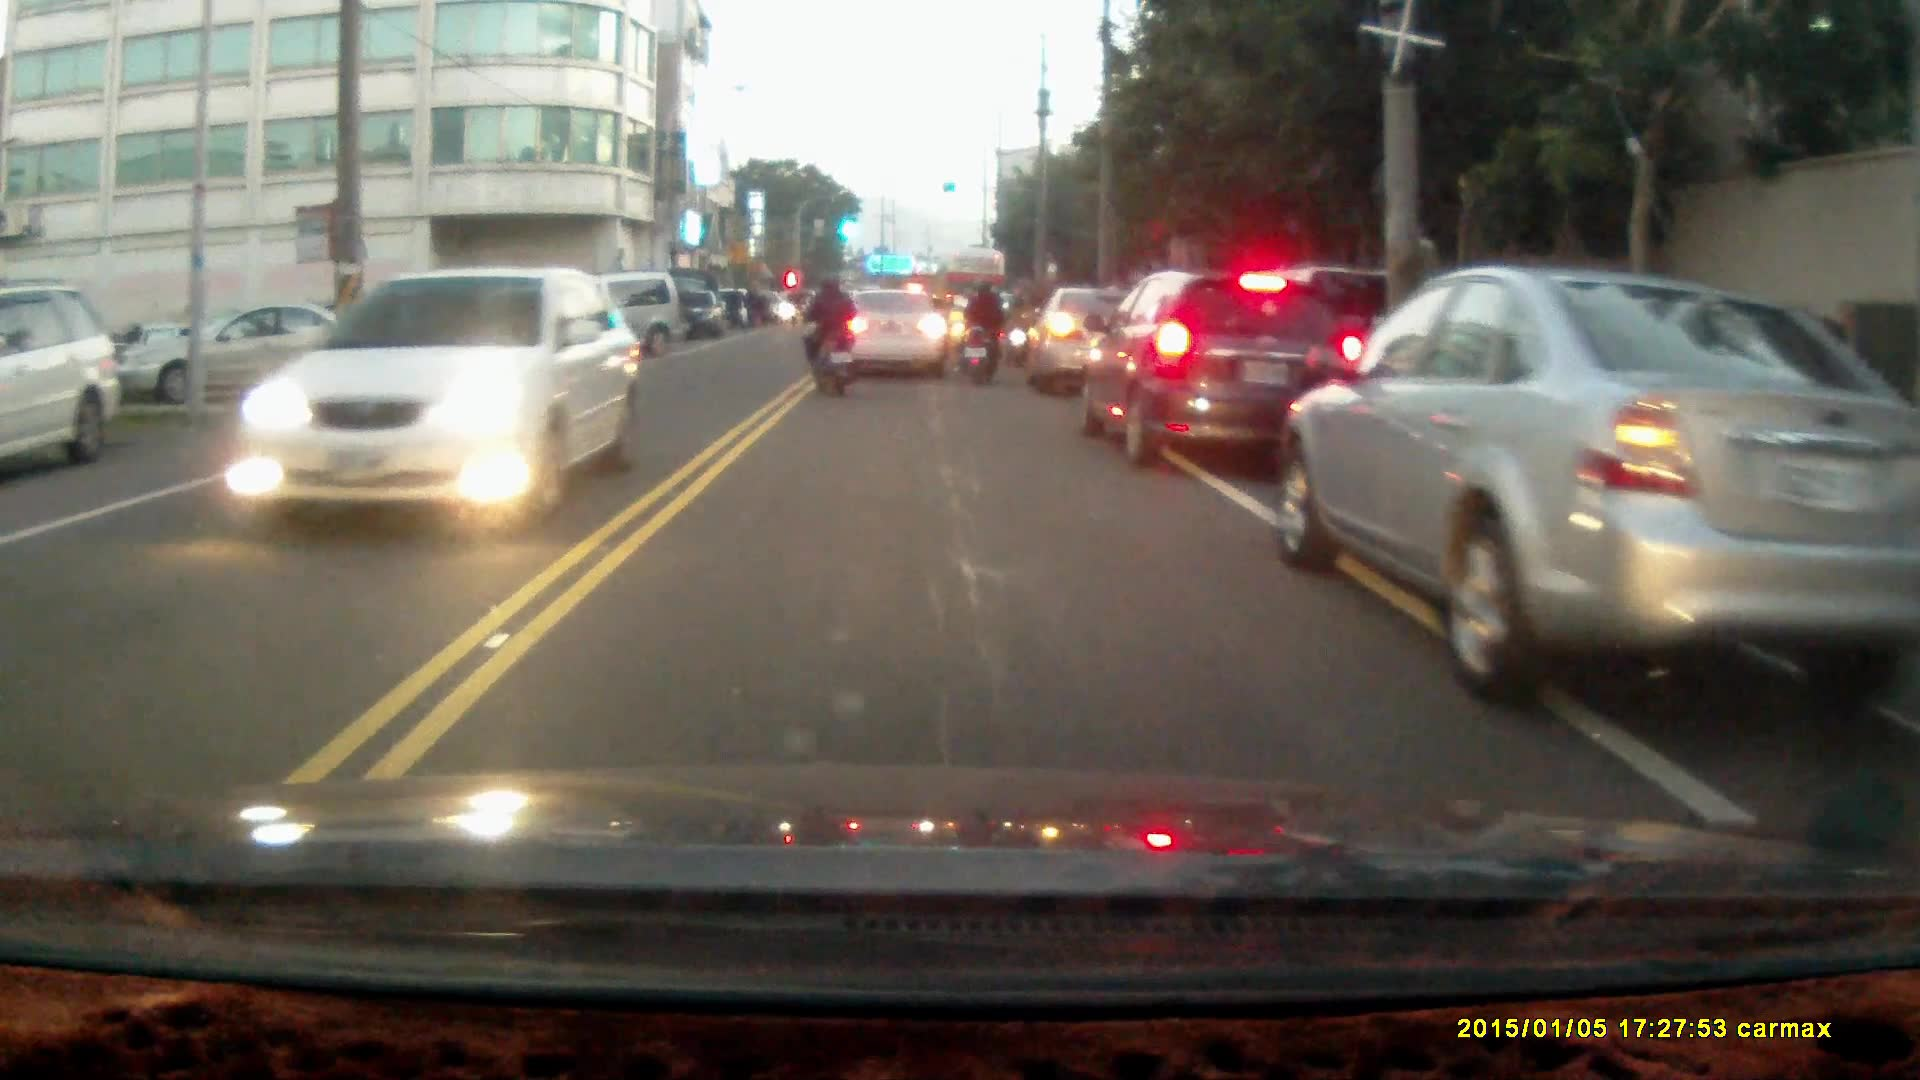rider: (798, 275, 857, 399), (957, 275, 1011, 383)
vehicle: (1288, 264, 1917, 700), (240, 267, 634, 528), (1075, 267, 1364, 471), (117, 300, 377, 405), (1, 284, 118, 476), (1019, 285, 1147, 398), (834, 288, 948, 384), (671, 291, 728, 342)
